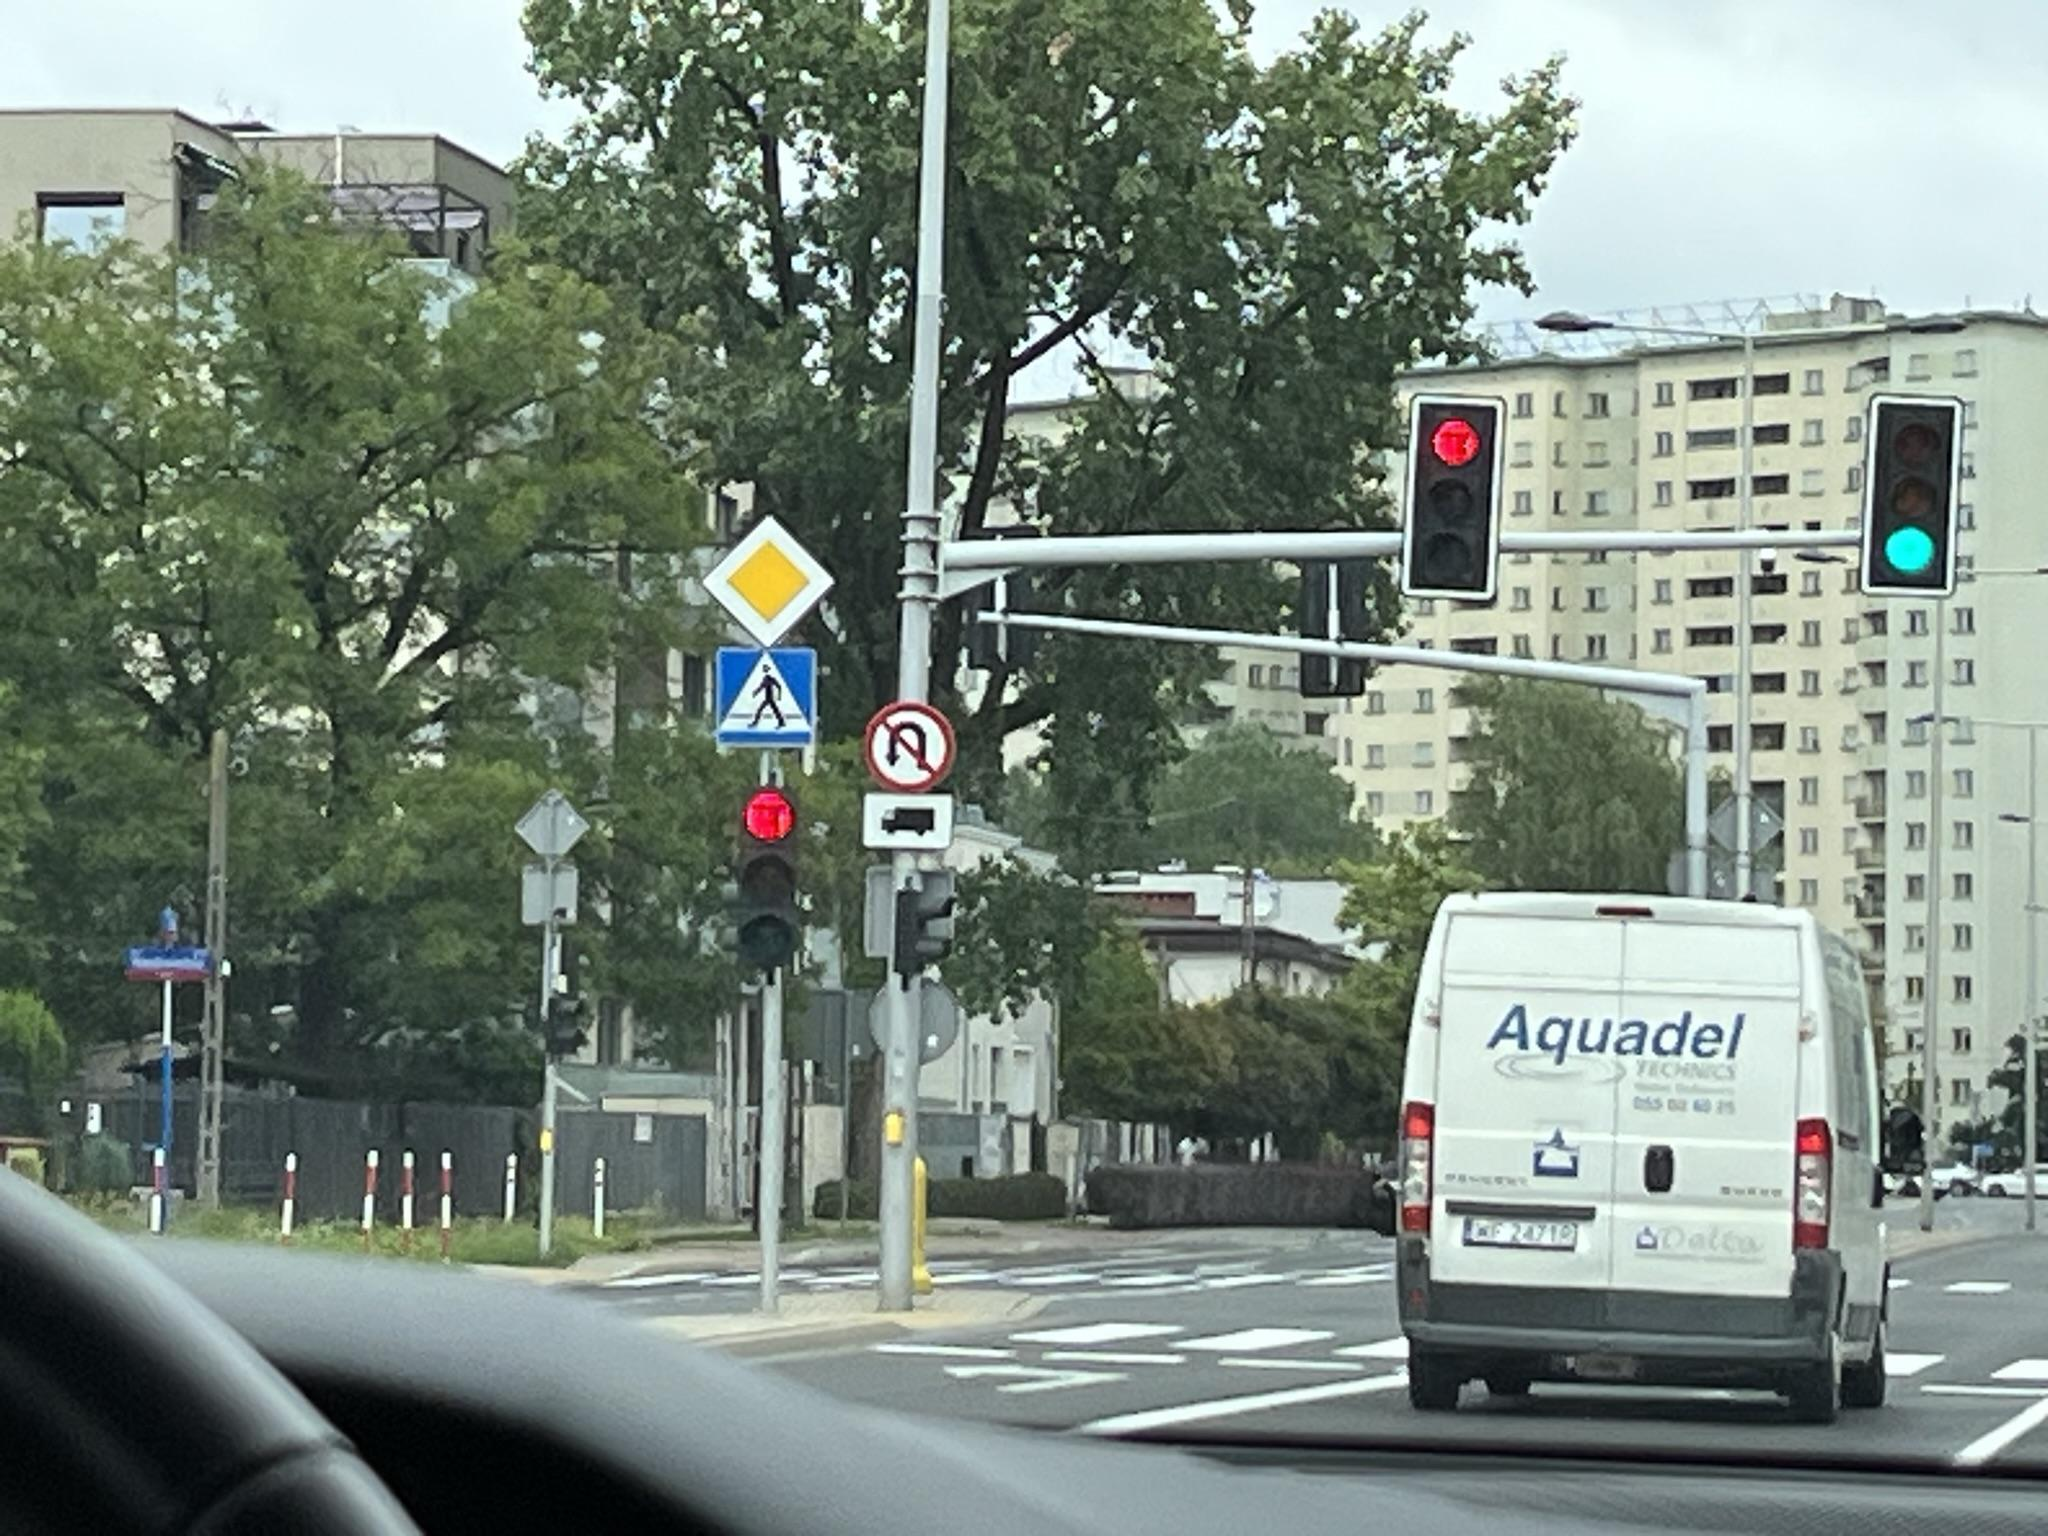information: (698, 511, 839, 649), (714, 645, 818, 750)
other: (863, 791, 955, 852)
prohibitory: (863, 699, 958, 792)
